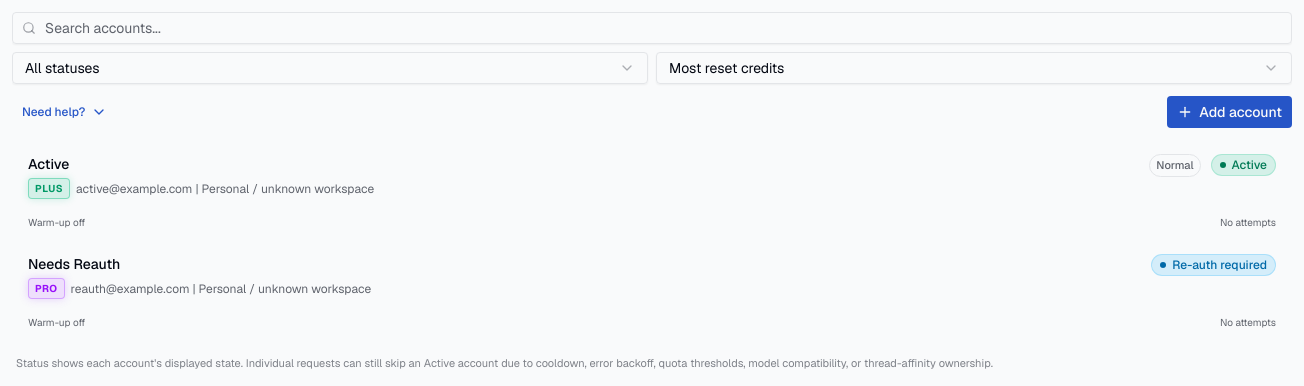
it: AccountList › filters re-auth required accounts by status
Click the dropdown named "Filter accounts by status" at (62, 68), box [12, 52, 648, 84]
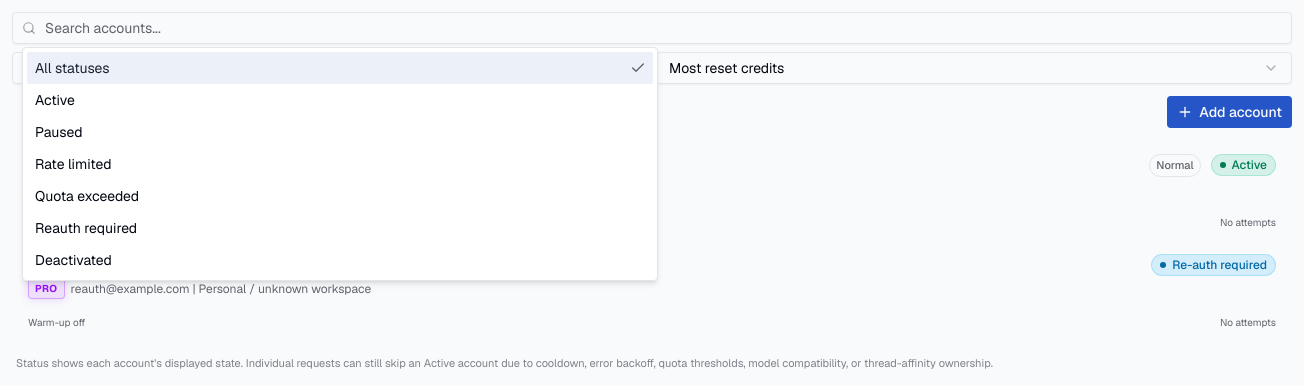
Click the option "Reauth required" at (86, 228), box [35, 219, 137, 237]
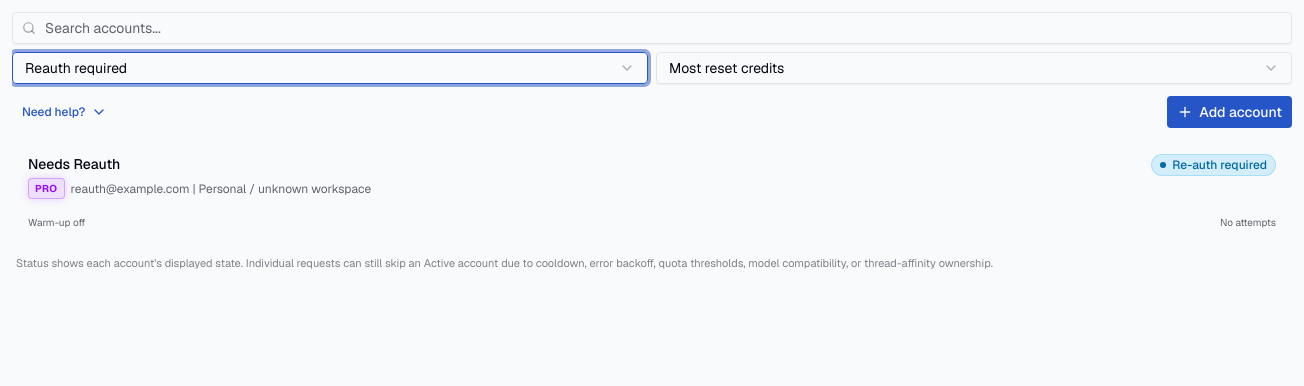
Check: the text "reauth@example.com" is shown, box [71, 180, 189, 196]
Check: the button "active@example.com" is gone
